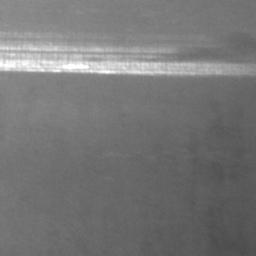Bright scratch: (0, 42, 256, 77)
